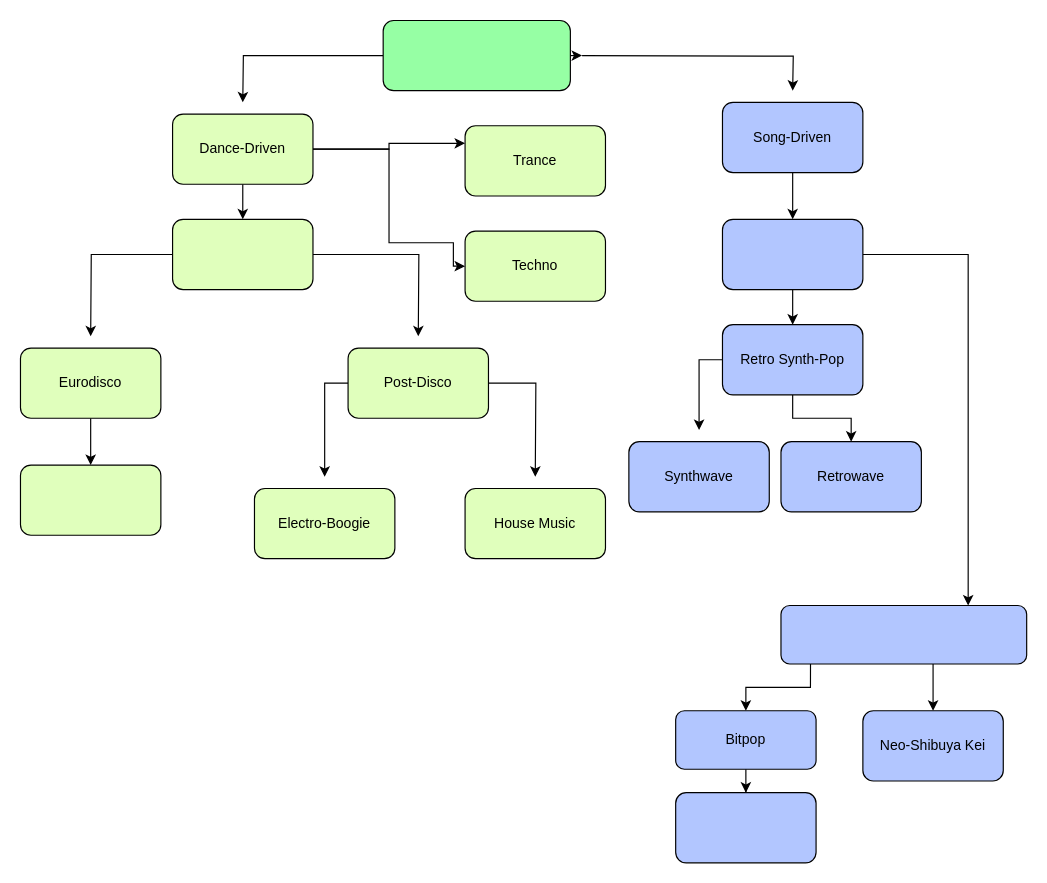
The diagram is 1047 pixels wide and 883 high, and some of its shapes have lost their labels. Here are the shapes that lost their labels. From the top down, the centre of each, then its label:
point (476, 55): Electronic Music Family
point (242, 254): Disco
point (792, 254): Synth-Pop
point (90, 499): Italo Disco
point (903, 634): Technopop
point (745, 827): Chiptune
